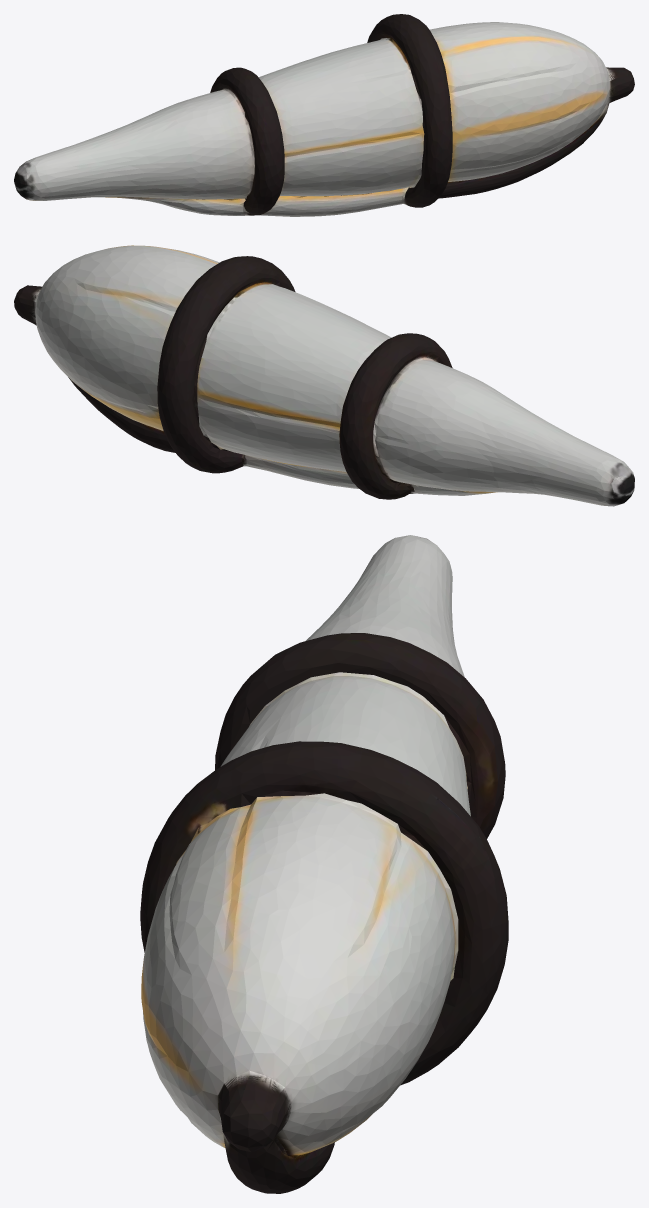
Rendered from scout.glb.
3 views of the same model, one above another, from view 1: azimuth 30°, elevation 25°; view 2: azimuth 150°, elevation 25°; view 3: azimuth 270°, elevation 25° (orthographic). The views are drawn at different scales.
Parts seen in each view (by area): view 1: figure; view 2: figure; view 3: figure.
Part boxes in pixels (x1,y1,x2,y2): figure: (14, 14, 634, 216); figure: (14, 245, 634, 506); figure: (140, 535, 508, 1193).
Bounding box in the file's own units: 3.34 × 1 × 0.927.
Materials: 1 (1 with a texture image).
